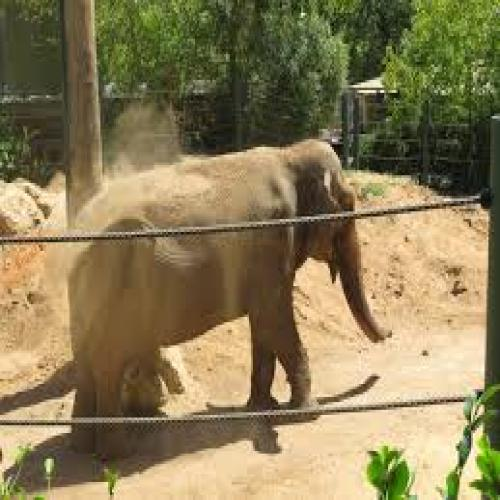asian_elephant-endangered: (66, 139, 389, 454)
